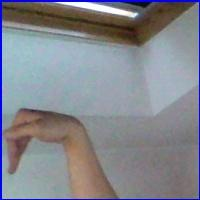del: (5, 104, 92, 180)
